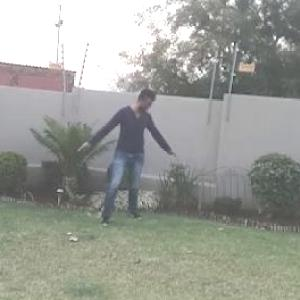land: (72, 84, 186, 234)
